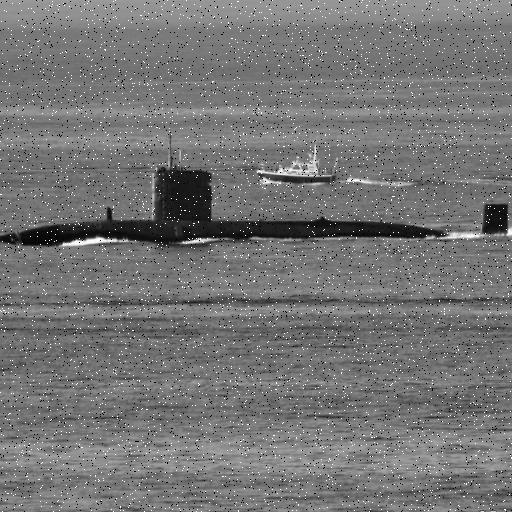submarine: (1, 167, 512, 259)
